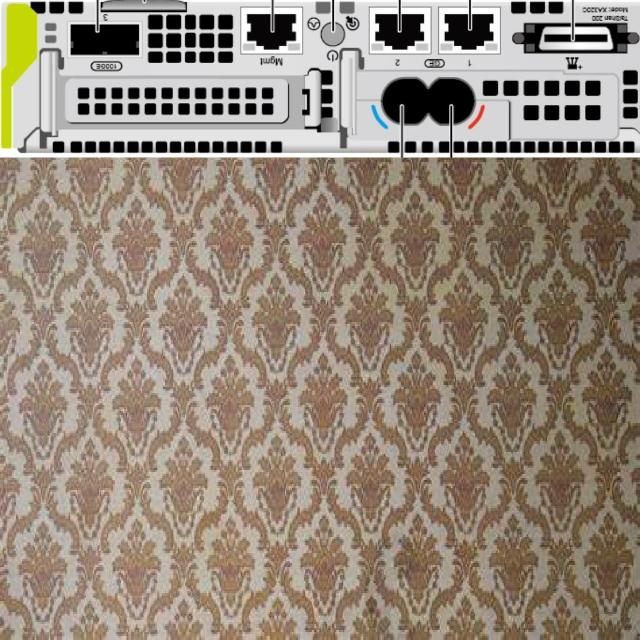Server: (0, 0, 640, 156)
